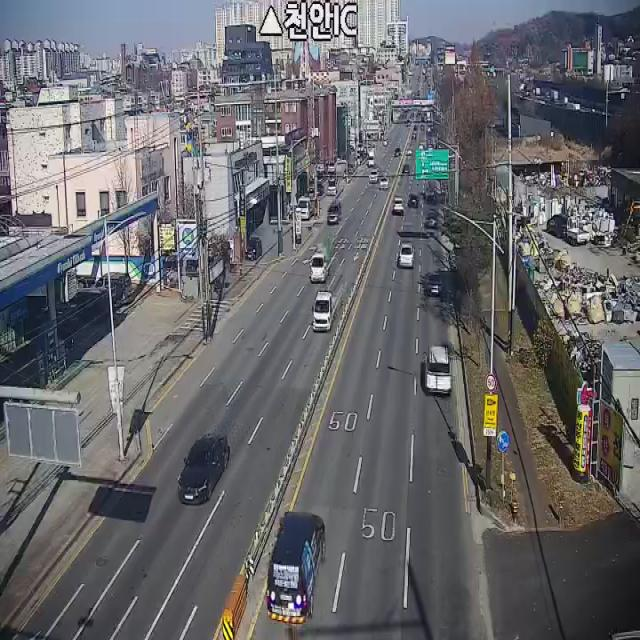Car: (267, 512, 326, 624), (178, 432, 230, 505), (425, 344, 452, 398), (90, 274, 132, 306), (426, 271, 443, 298), (398, 244, 415, 268), (245, 237, 262, 260), (327, 201, 342, 224), (426, 209, 438, 228), (327, 178, 338, 196), (379, 176, 391, 191), (393, 198, 404, 214), (314, 160, 327, 173), (408, 192, 419, 206), (368, 168, 378, 183), (335, 154, 344, 167), (328, 162, 336, 174)
Truck: (312, 291, 343, 332), (421, 168, 449, 202), (310, 250, 336, 282), (566, 217, 589, 246)
